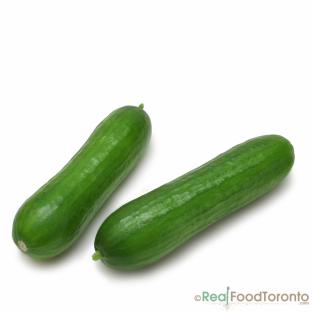Cucumber: (93, 135, 294, 269), (13, 105, 151, 258)
